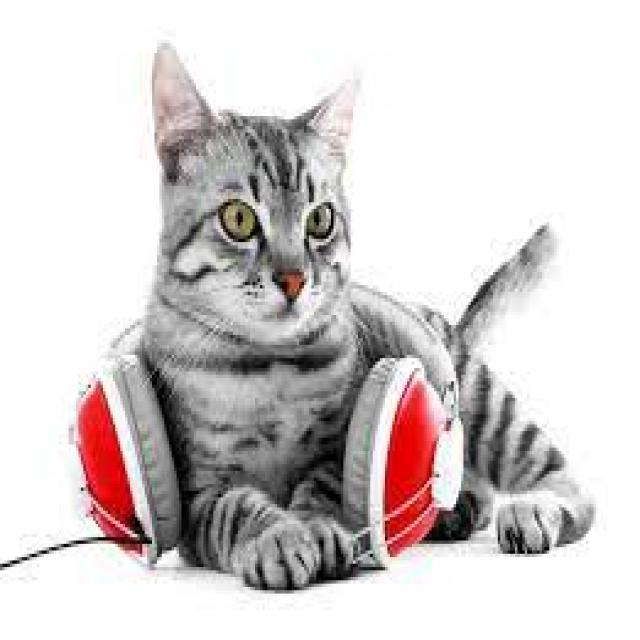Cat: (136, 36, 600, 597)
